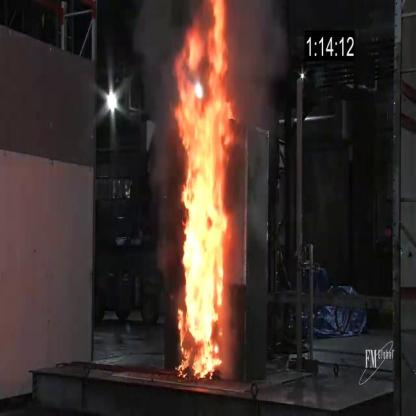fire: (170, 6, 237, 385)
